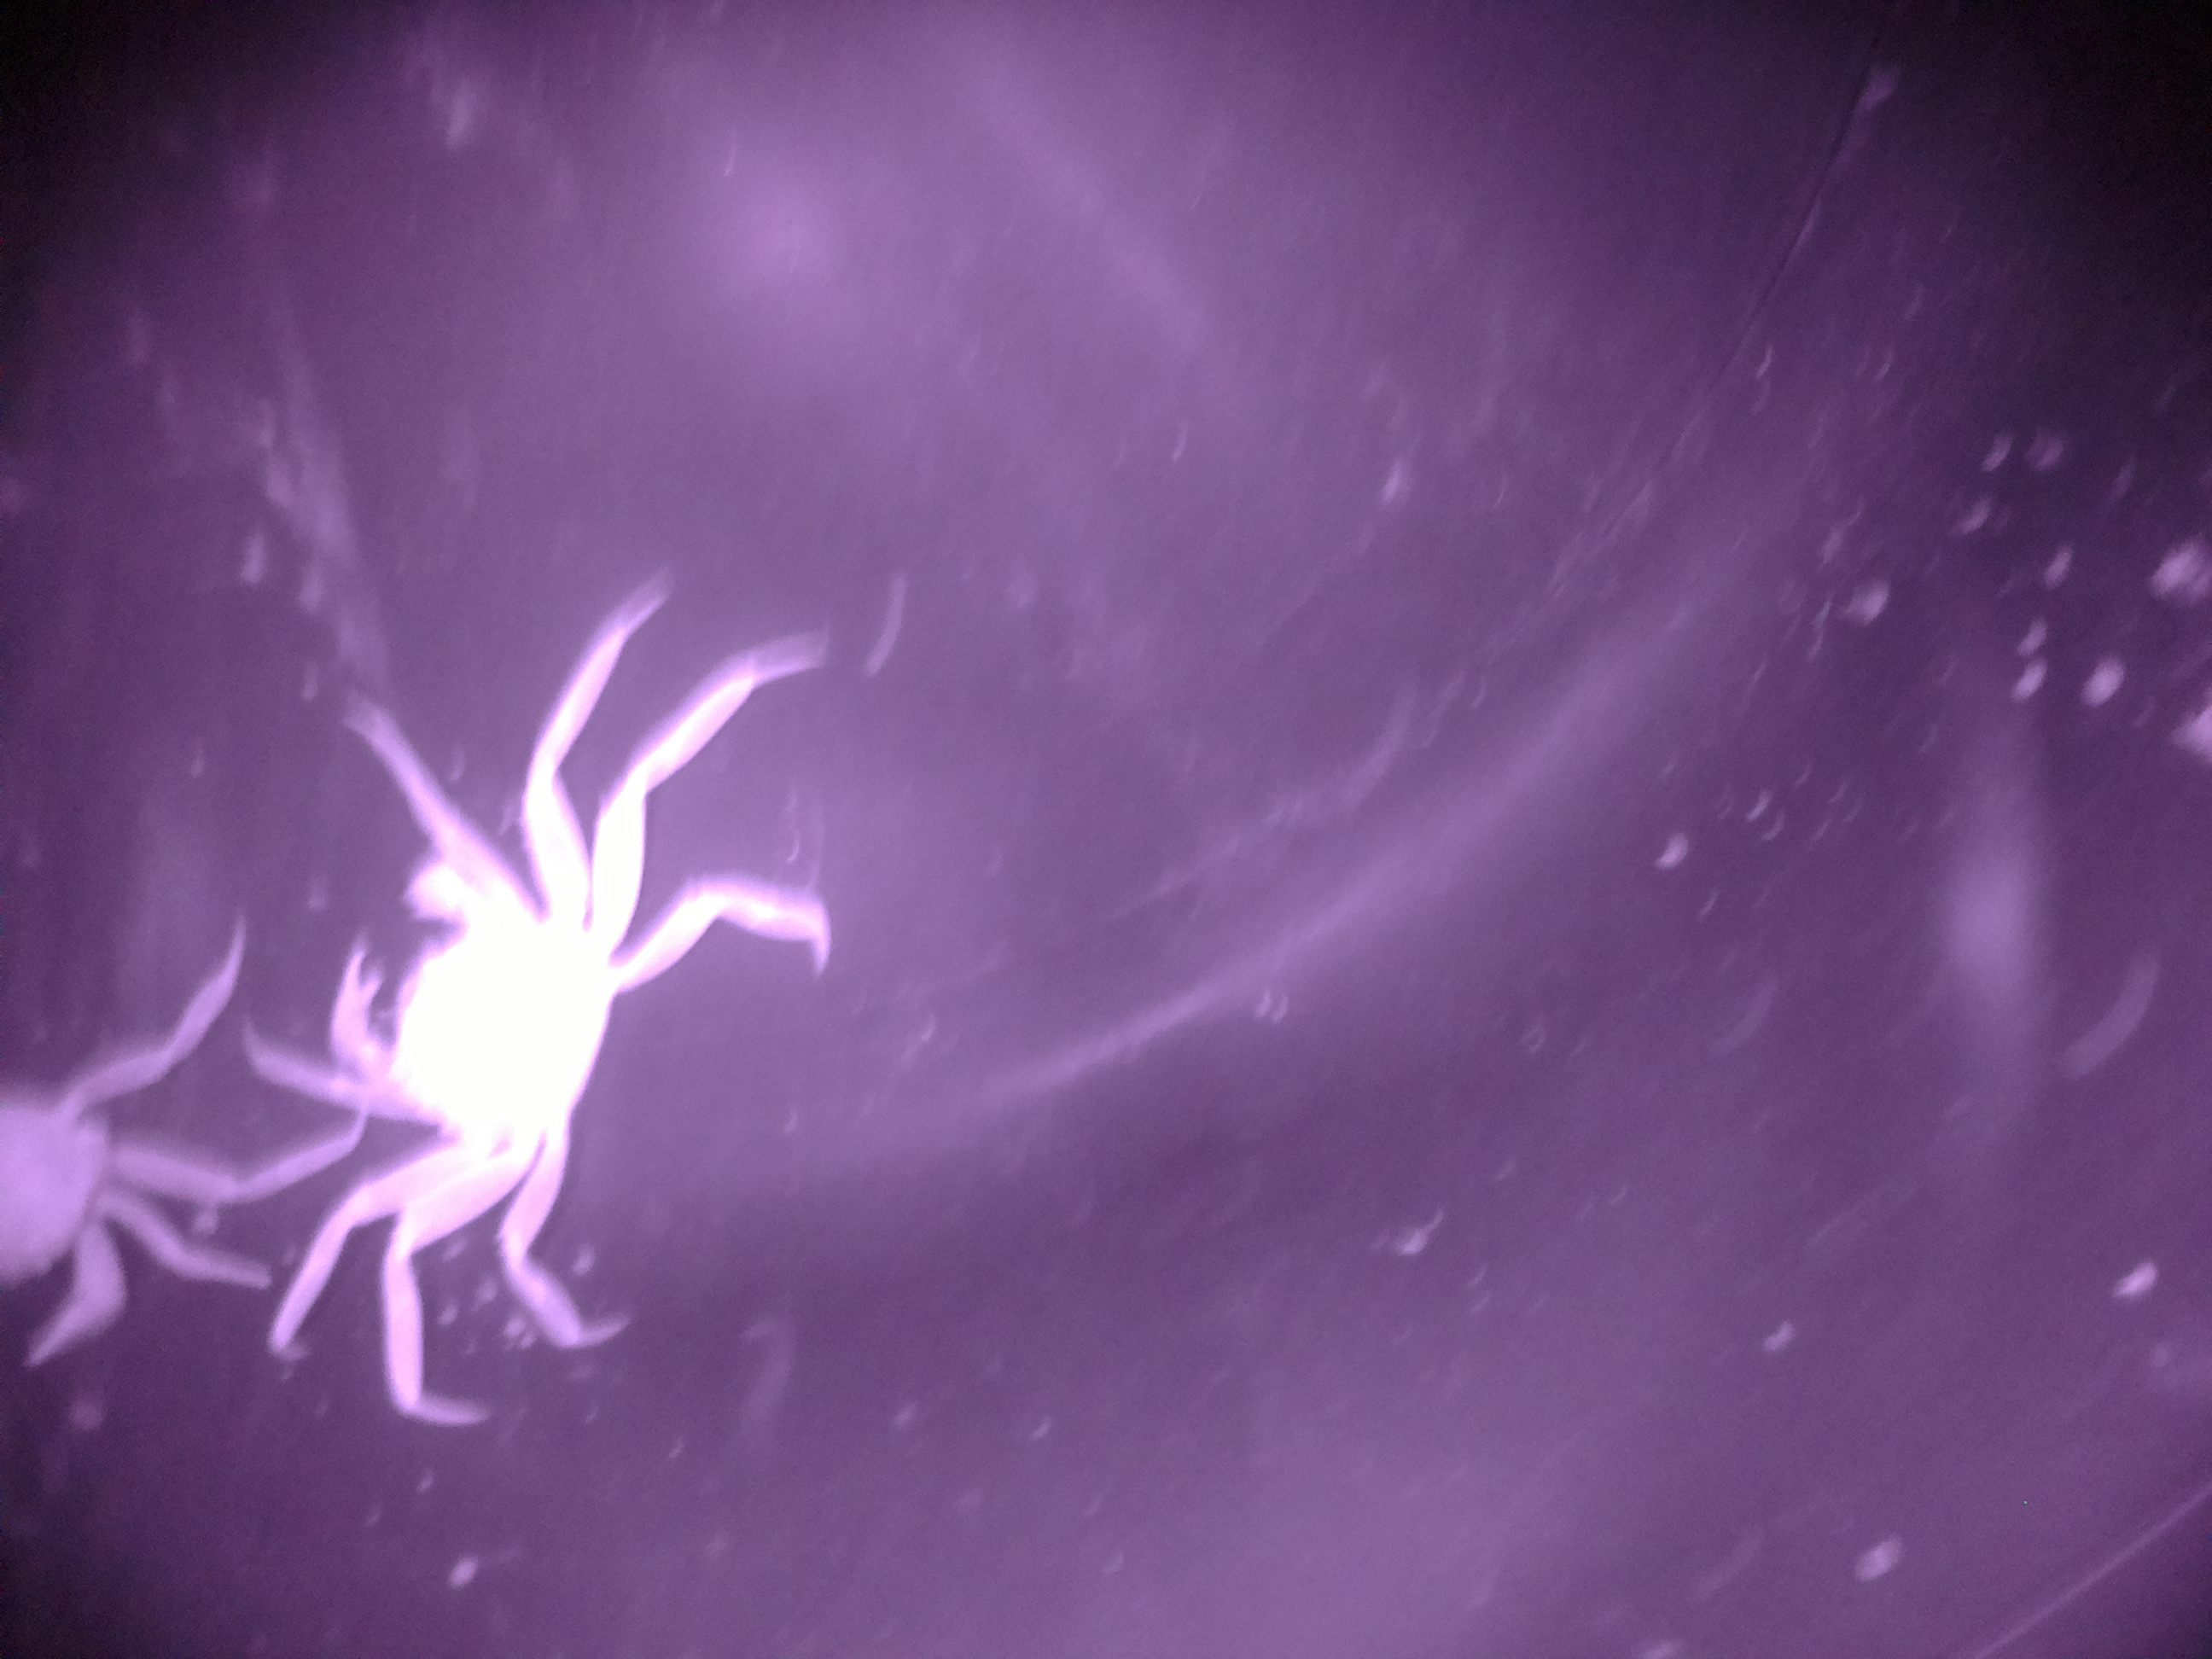Crab: (261, 767, 728, 1230)
